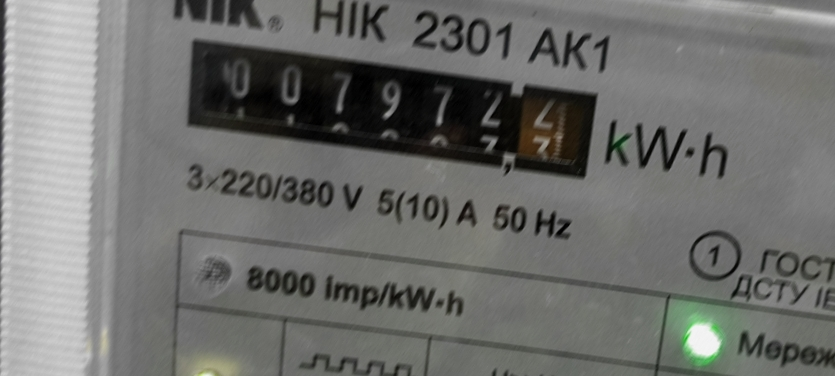0: (223, 54, 255, 98), (274, 60, 304, 105)
2: (476, 87, 505, 128), (528, 94, 556, 131)
3: (526, 132, 551, 160)
7: (423, 80, 455, 129), (323, 67, 354, 115)
9: (374, 74, 402, 120)
screen: (161, 21, 615, 197)
